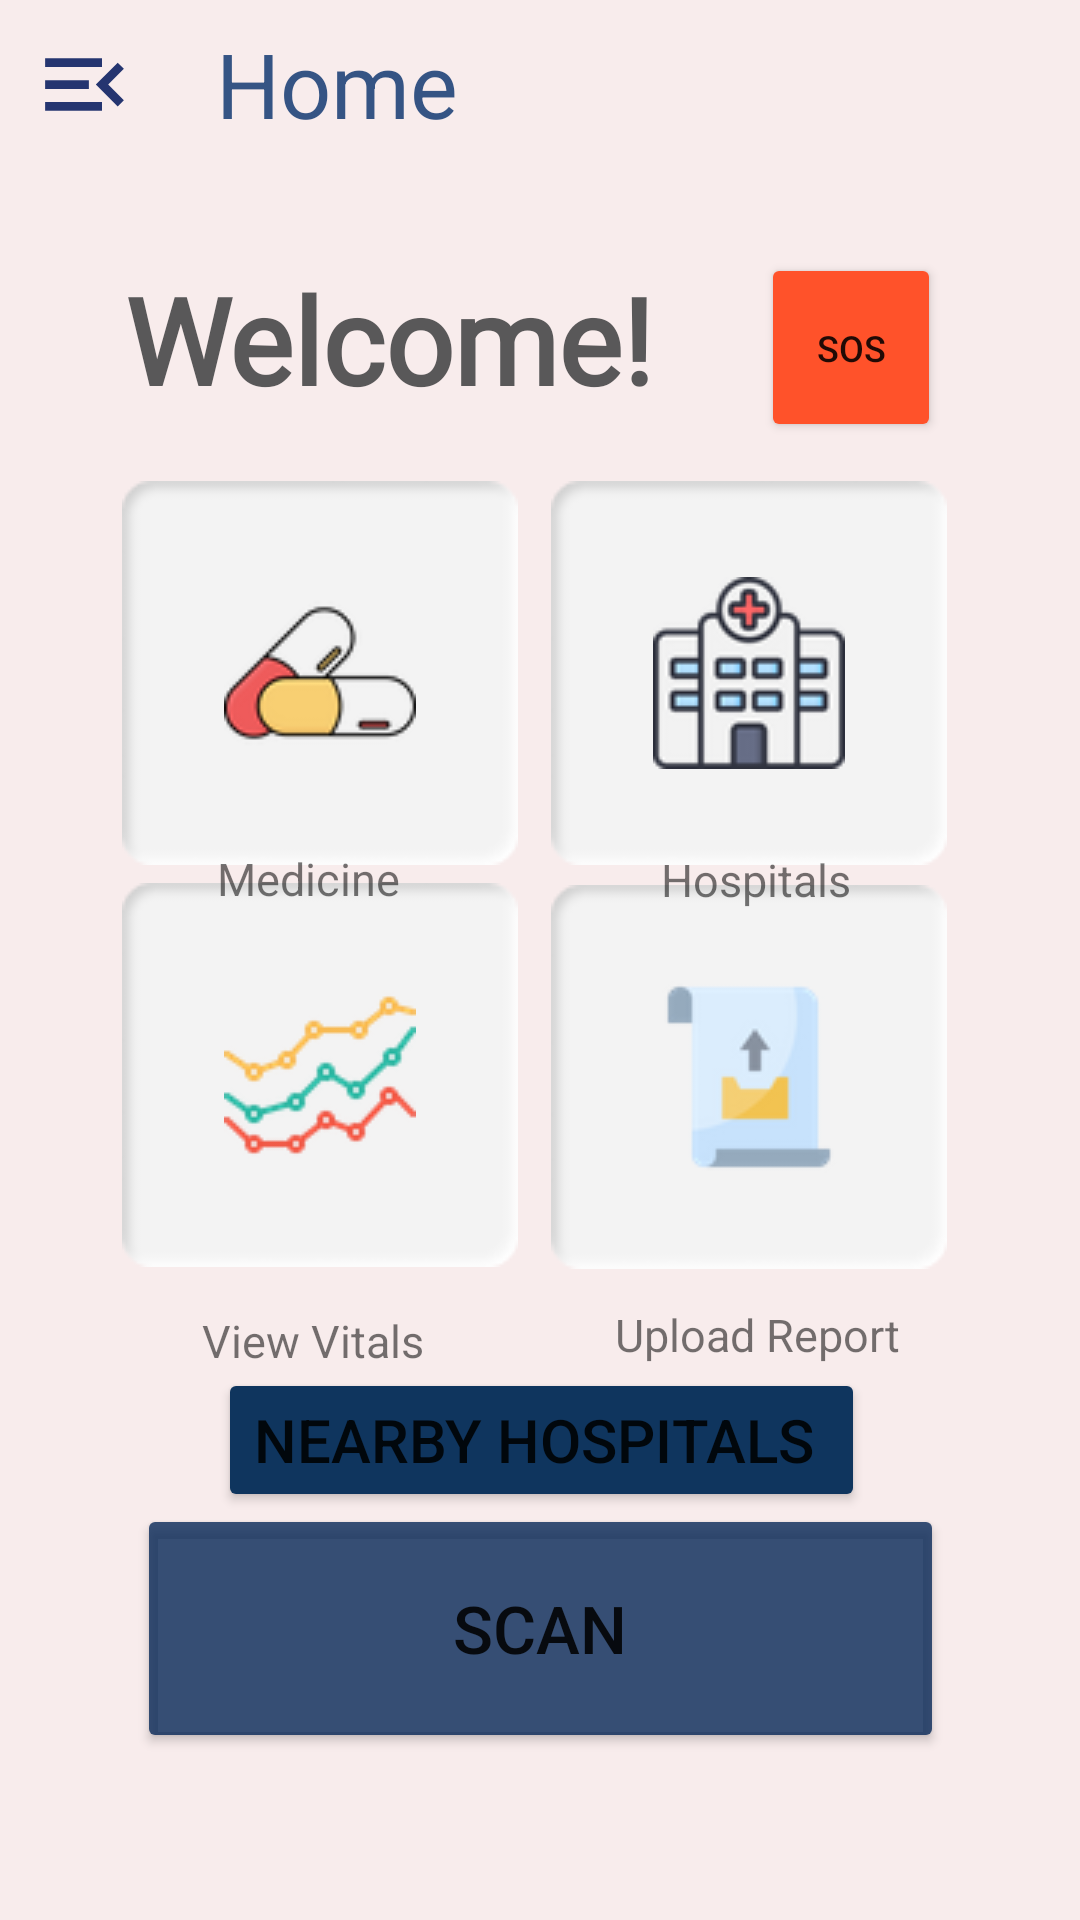

Where to tap for icons on this 1080px x 1920px app screen, as [x,y]:
graph: [320,1075]
uploadfile: [749,1077]
